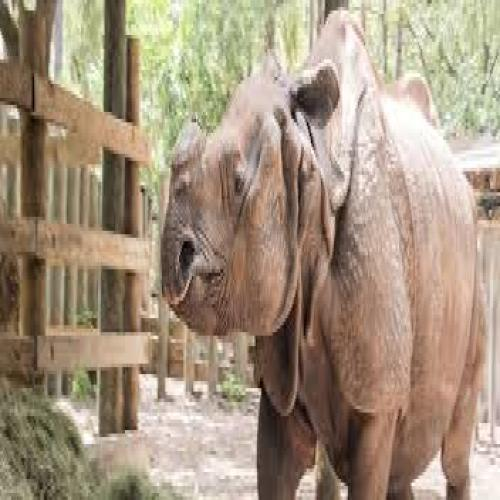rhino-endangered: (158, 7, 488, 500)
